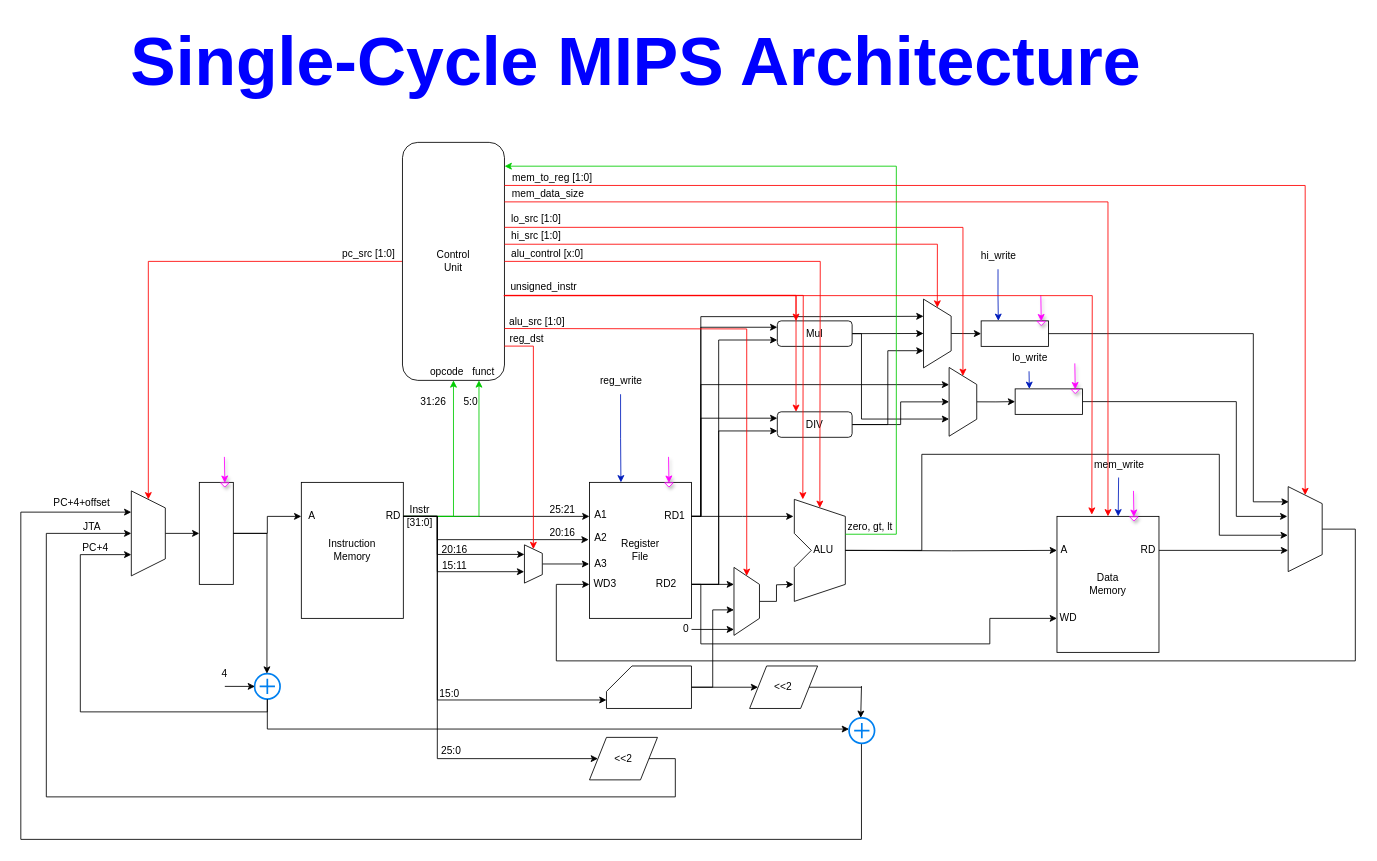
Image size: 1377x861. Some labels were removed from this diagram. The shapes that lost their labels are listed below. From the top down, each one's centre as x and y in pixels, then its label:
the point at 1014,333: HI
the point at 1048,401: LO
the point at 215,533: PC
the point at 648,686: Sign Extend
